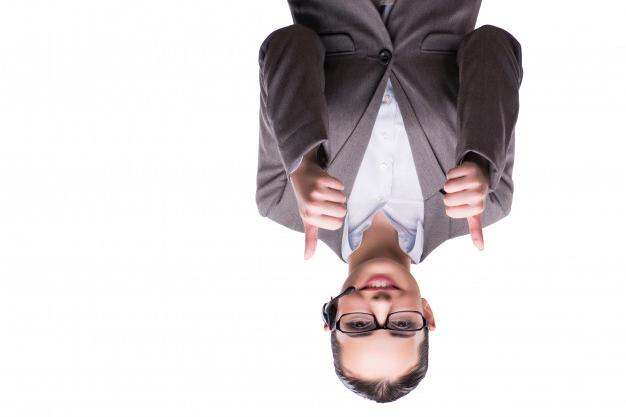thumbsdown: (444, 163, 486, 252), (303, 177, 347, 261)
